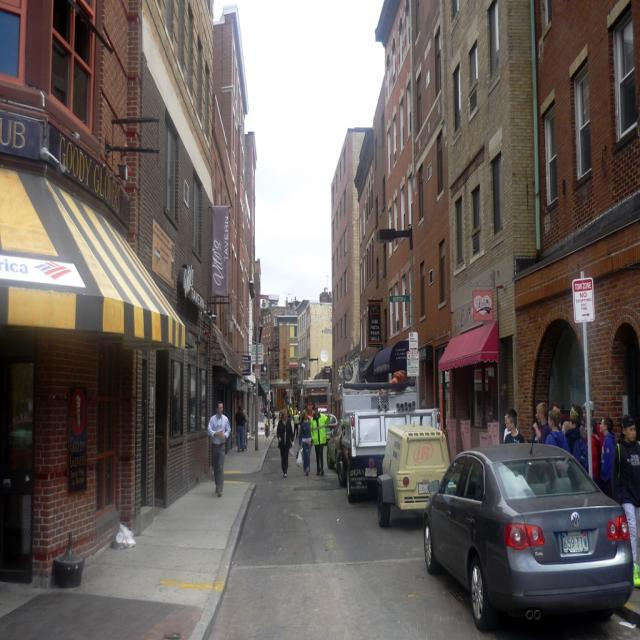car: (422, 416, 635, 632)
